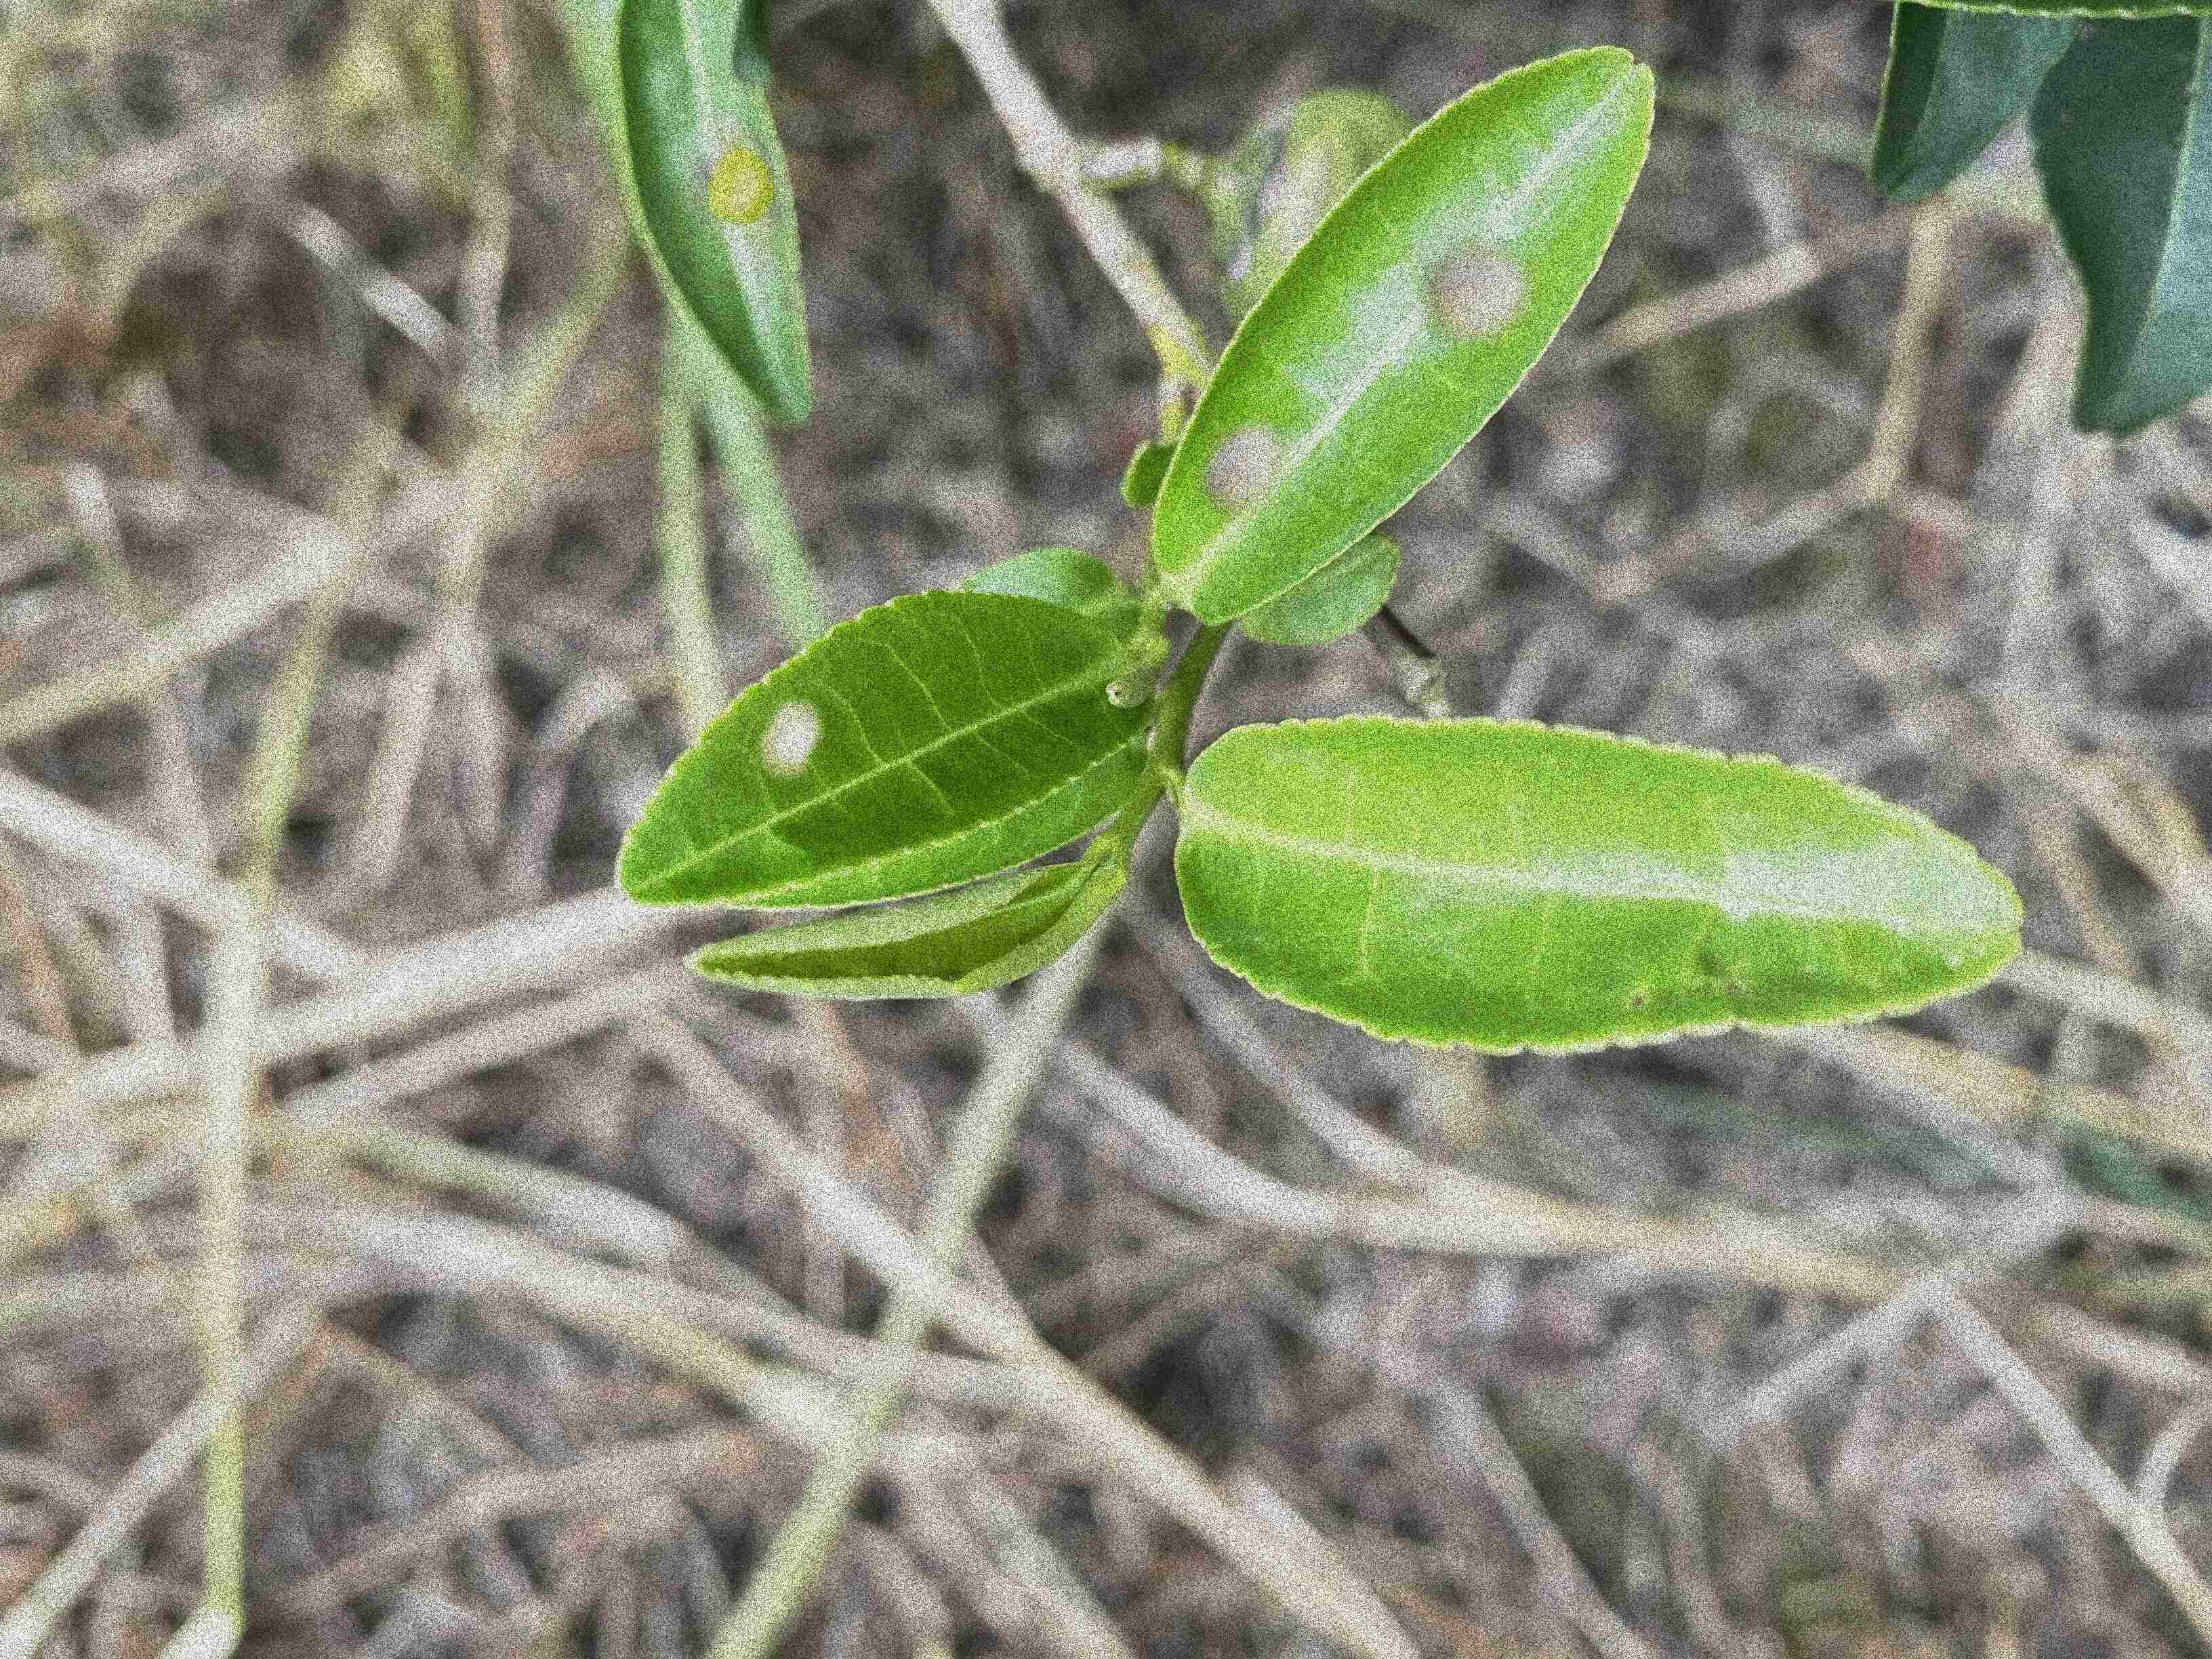chabing_high: (1153, 45, 1655, 631)
chabing_low: (617, 594, 1139, 915), (611, 3, 815, 429)
healthy: (1170, 714, 2045, 1058), (681, 854, 1129, 1002)
